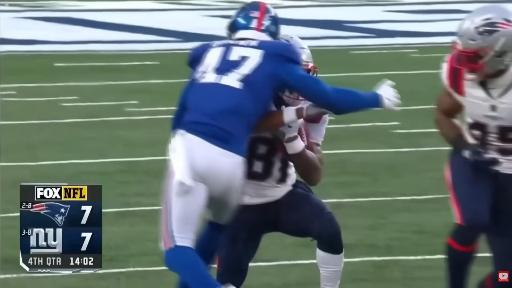Helmet: (453, 5, 511, 75), (227, 2, 279, 39), (280, 35, 317, 75)
Jersey: (173, 40, 301, 156), (442, 55, 511, 173), (243, 133, 296, 204)
Player: (162, 2, 399, 287), (217, 116, 343, 287), (436, 5, 511, 287)
